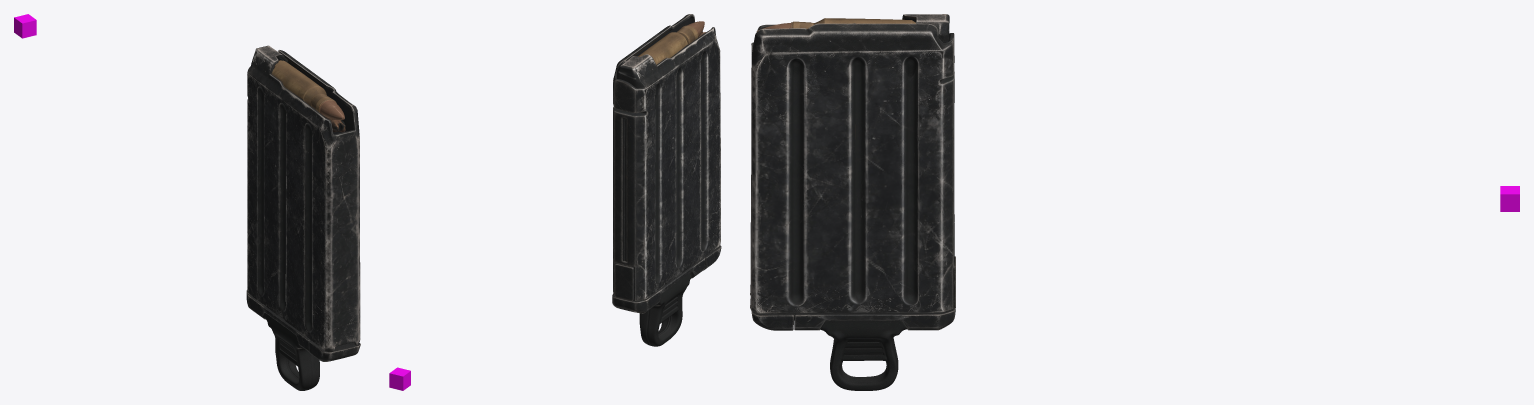
The model's file is FastMag_DMR.glb.
3 views of the same model, side by side, from view 1: azimuth 30°, elevation 25°; view 2: azimuth 150°, elevation 25°; view 3: azimuth 270°, elevation 25° (orthographic). The views are drawn at different scales.
Parts seen in each view (by area): view 1: Magazine_Fast_14, Magazine_Fast_10, Magazine_Fast_13, Magazine_Fast_11, Magazine_Fast_08, Magazine_Fast_07, Magazine_Fast_04, Magazine_Fast_06, Magazine_Fast_09, Magazine_Fast_03, Magazine_Fast_05, Magazine_Fast_12 (+2 smaller); view 2: Magazine_Fast_01, Magazine_Fast_10, Magazine_Fast_02, Magazine_Fast_13, Magazine_Fast_06, Magazine_Fast_08, Magazine_Fast_07, Magazine_Fast_09, Magazine_Fast_05, Magazine_Fast_11, Magazine_Fast_03, Magazine_Fast_12 (+3 smaller); view 3: Magazine_Fast_10, Magazine_Fast_13, Magazine_Fast_08, Magazine_Fast_07, Magazine_Fast_11, Magazine_Fast_09, Magazine_Fast_06, Magazine_Fast_04, Magazine_Fast_05, Magazine_Fast_03, Magazine_Fast_14, Magazine_Fast_02 (+2 smaller).
Part boxes in pixels (x1,y1,x2,y2): Magazine_Fast_14: [320, 106, 360, 361]; Magazine_Fast_10: [286, 77, 332, 389]; Magazine_Fast_13: [311, 97, 359, 361]; Magazine_Fast_11: [296, 86, 343, 351]; Magazine_Fast_08: [274, 67, 318, 389]; Magazine_Fast_07: [265, 62, 308, 385]; Magazine_Fast_04: [248, 50, 291, 314]; Magazine_Fast_06: [261, 58, 305, 373]; Magazine_Fast_09: [284, 74, 322, 390]; Magazine_Fast_03: [247, 47, 283, 312]; Magazine_Fast_05: [256, 53, 296, 320]; Magazine_Fast_12: [309, 94, 346, 355]; Magazine_Fast_01: [612, 67, 643, 312]; Magazine_Fast_10: [656, 26, 700, 326]; Magazine_Fast_02: [612, 63, 646, 313]; Magazine_Fast_13: [679, 14, 720, 266]; Magazine_Fast_06: [632, 45, 674, 346]; Magazine_Fast_08: [642, 36, 683, 343]; Magazine_Fast_07: [637, 42, 676, 346]; Magazine_Fast_09: [651, 31, 692, 336]; Magazine_Fast_05: [625, 50, 663, 304]; Magazine_Fast_11: [666, 22, 706, 275]; Magazine_Fast_03: [615, 59, 654, 313]; Magazine_Fast_12: [675, 20, 711, 270]; Magazine_Fast_10: [806, 18, 848, 384]; Magazine_Fast_13: [756, 23, 791, 330]; Magazine_Fast_08: [843, 18, 878, 390]; Magazine_Fast_07: [864, 19, 899, 390]; Magazine_Fast_11: [789, 21, 832, 330]; Magazine_Fast_09: [819, 18, 858, 390]; Magazine_Fast_06: [871, 19, 907, 387]; Magazine_Fast_04: [909, 14, 936, 330]; Magazine_Fast_05: [896, 14, 923, 330]; Magazine_Fast_03: [921, 14, 942, 330]; Magazine_Fast_14: [750, 25, 770, 326]; Magazine_Fast_02: [939, 14, 951, 329].
Bounding box in the file's own units: 0.0761 × 0.6267 × 1.17.
2 materials, 1 textured.
